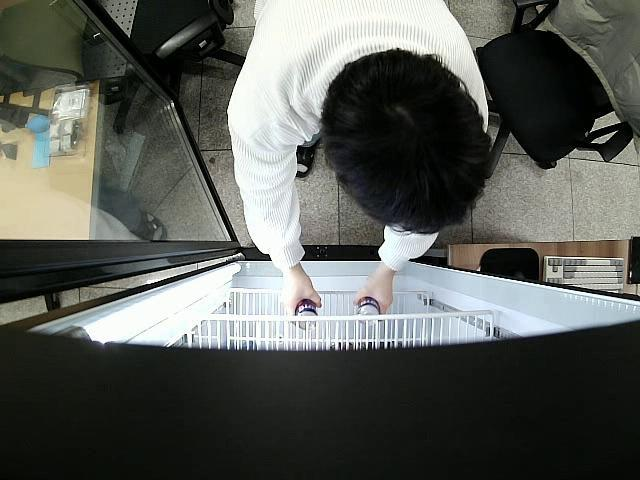16_hot6: (354, 298, 382, 326), (295, 297, 318, 330)
